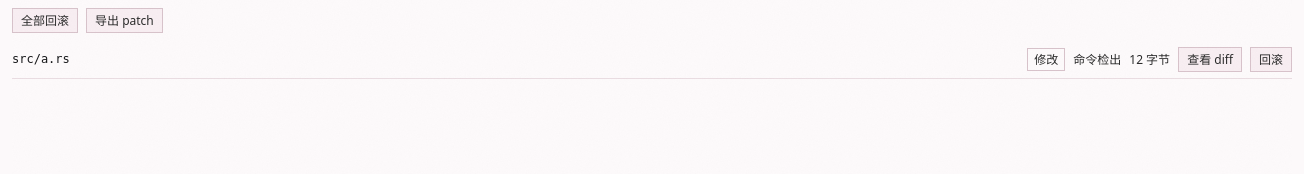
it: FileChangesPanel 交互(批次 4c) › 点「查看 diff」→ 按 path 请求并渲染 diff;再点收起
Click the button "查看 diff" at (1210, 60), box 1178,47 -> 1242,72
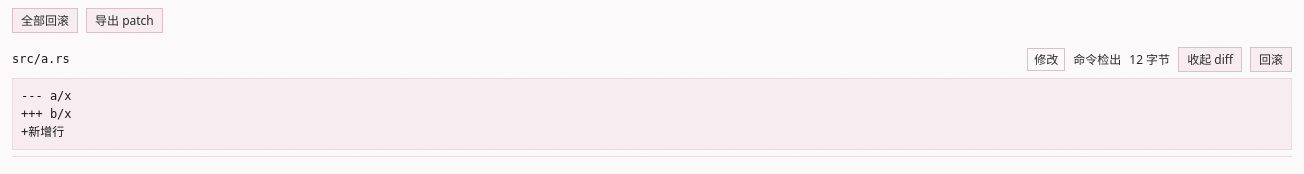
Now the text "+新增行" is shown, box 21,89 -> 72,139
Click the button "收起 diff" at (1210, 60), box 1178,47 -> 1242,72
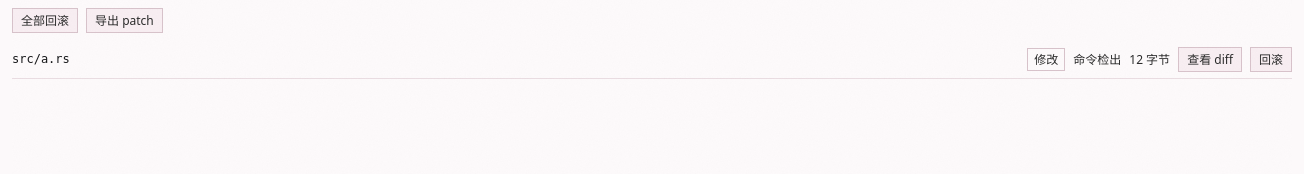
Now the text "+新增行" is gone
